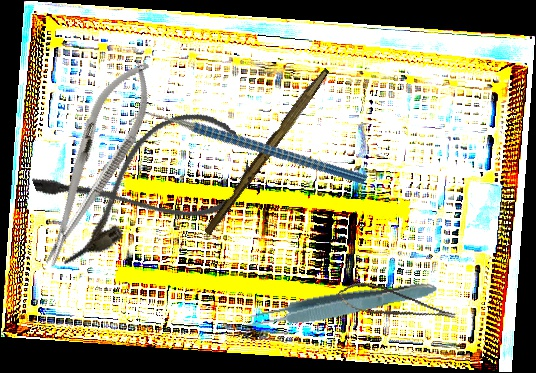Cannula: (29, 98, 260, 270)
Chopper: (128, 44, 369, 255)
Micro Scissor: (334, 273, 458, 341)
Needle Holder: (23, 50, 168, 276)
Scalpel Handle: (202, 63, 331, 239)
Tissue Forceps: (240, 275, 439, 334)
